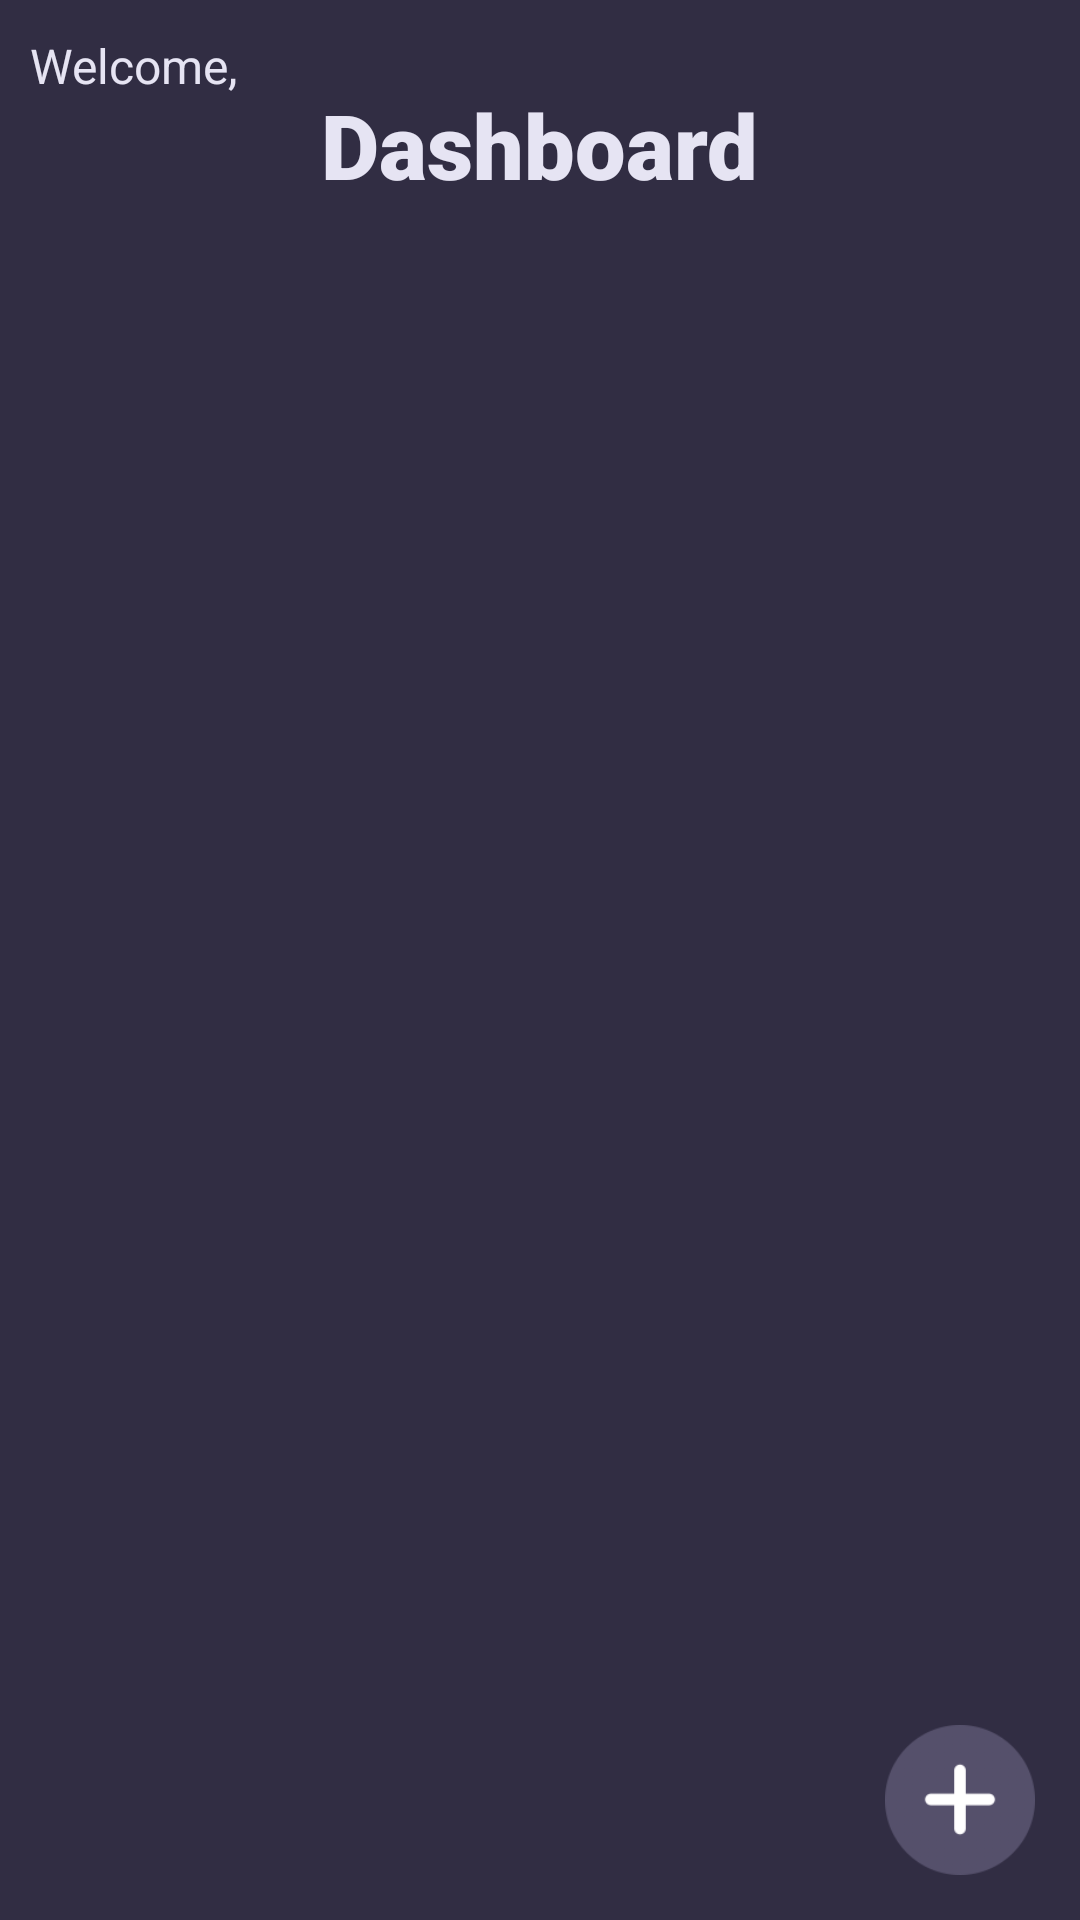

Icons on this 1080px×1920px Android screen, each with the point to tap as (x,y):
add: (960,1800)
